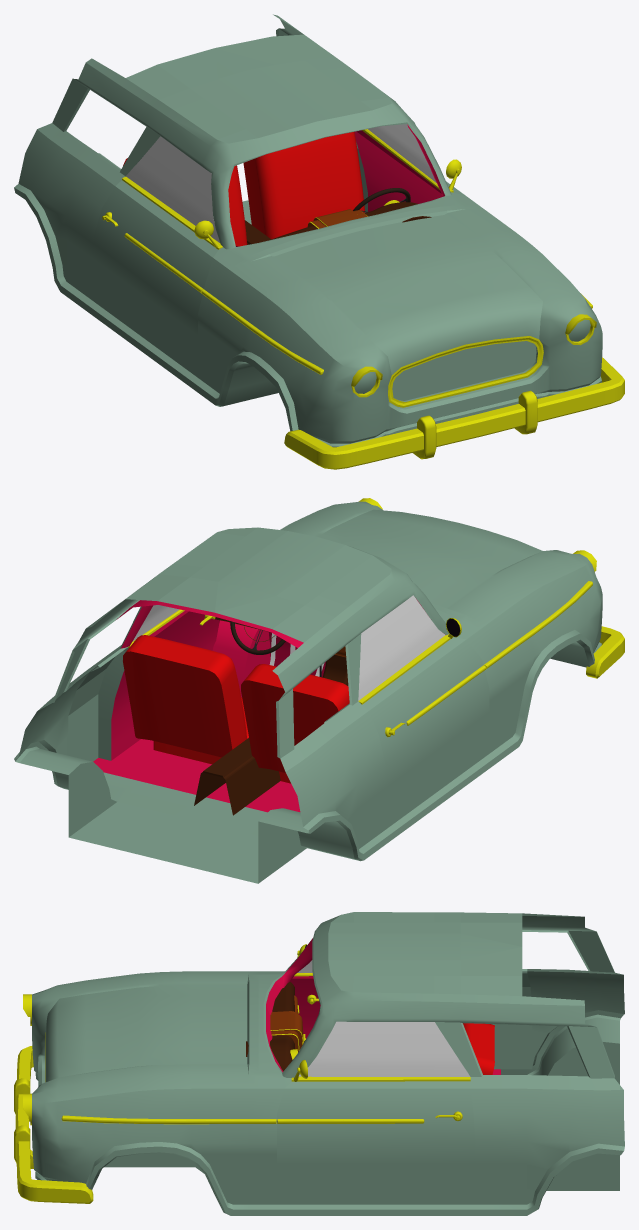
Rendered from interior.fbx.
3 renders of one model, top to bottom at view 1: azimuth 30°, elevation 25°; view 2: azimuth 150°, elevation 25°; view 3: azimuth 270°, elevation 25°, orthographic. The views are drawn at different scales.
Parts seen in each view (by area): view 1: PlayerCar_Body, pasted__Door_Left, pasted__Window_Left, Door_Left, Window_Left; view 2: PlayerCar_Body, pasted__Door_Left, Door_Left, pasted__Window_Left, Window_Left; view 3: PlayerCar_Body, Door_Left, Window_Left, pasted__Door_Left.
Part boxes in pixels (x1,y1,x2,y2): PlayerCar_Body: (14,14,624,469); pasted__Door_Left: (94,176,222,372); pasted__Window_Left: (126,136,219,242); Door_Left: (354,129,465,211); Window_Left: (368,124,436,182); PlayerCar_Body: (14,498,624,883); pasted__Door_Left: (358,618,489,827); Door_Left: (98,609,219,760); pasted__Window_Left: (358,595,445,700); Window_Left: (132,605,179,641); PlayerCar_Body: (14,912,624,1215); Door_Left: (277,1060,475,1202); Window_Left: (299,1021,470,1076); pasted__Door_Left: (290,944,320,1038).
Size of the model in its own units: 26.72 by 17.17 by 47.25.
